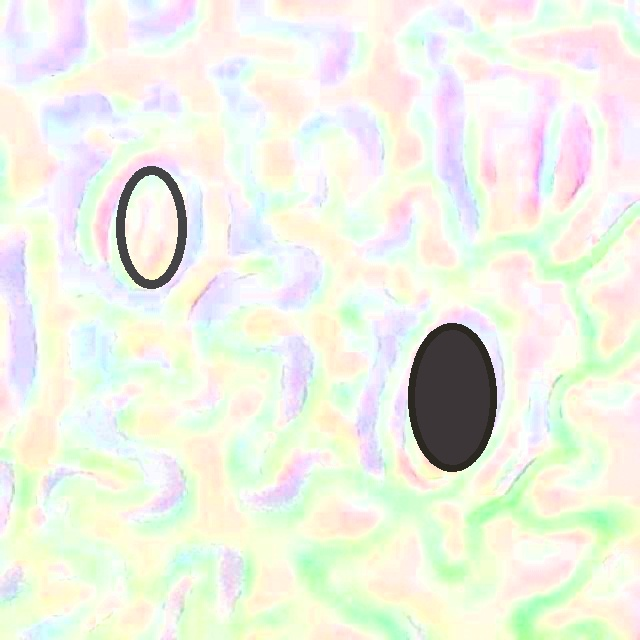close: (114, 165, 187, 288)
open: (408, 324, 496, 470)
